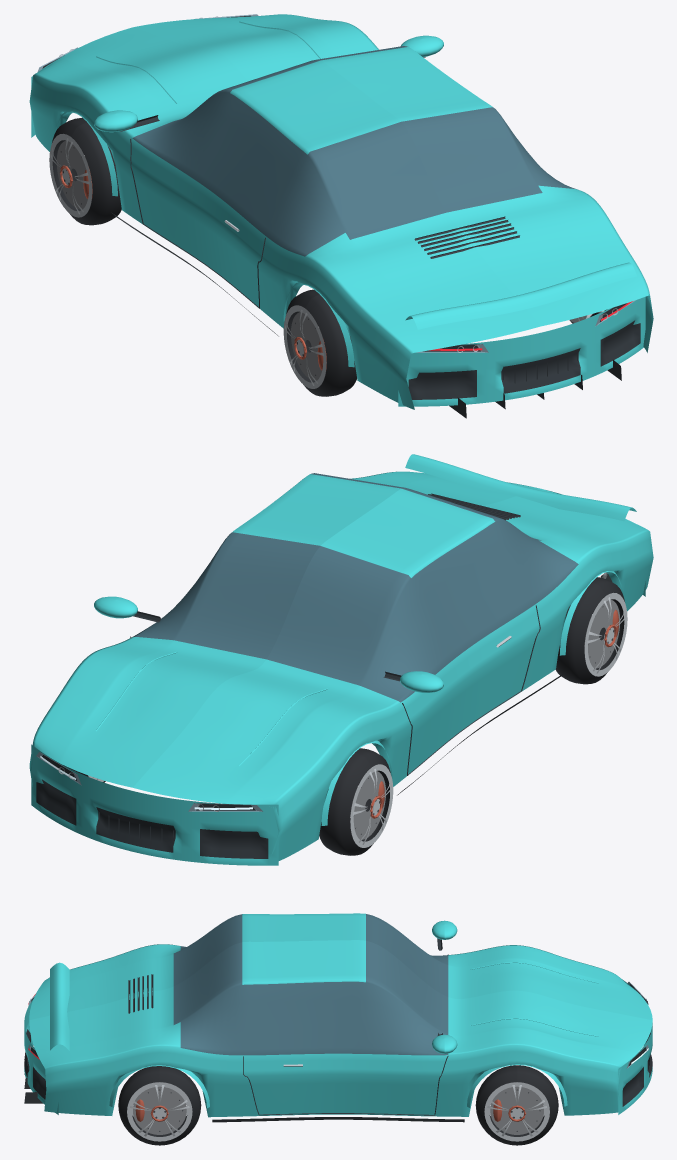
The model's file is tempest_gt_medium.glb.
The picture shows the model from 3 angles, top to bottom: view 1: azimuth 30°, elevation 25°; view 2: azimuth 150°, elevation 25°; view 3: azimuth 270°, elevation 25°; orthographic projection. The views are drawn at different scales.
Parts seen in each view (by area): view 1: Body, Wheel_0, Wheel_2; view 2: Body, Wheel_0, Wheel_2; view 3: Body, Wheel_1, Wheel_3.
Part boxes in pixels (x1=…): Body: x1=29, y1=14, x2=653, y2=418; Wheel_0: x1=49, y1=117, x2=121, y2=225; Wheel_2: x1=283, y1=289, x2=356, y2=396; Body: x1=29, y1=454, x2=653, y2=865; Wheel_0: x1=319, y1=748, x2=393, y2=855; Wheel_2: x1=555, y1=577, x2=627, y2=684; Body: x1=24, y1=913, x2=652, y2=1122; Wheel_1: x1=475, y1=1065, x2=558, y2=1145; Wheel_3: x1=118, y1=1066, x2=201, y2=1145.
Bounding box in the file's own units: 2.51 × 1.39 × 5.32.
